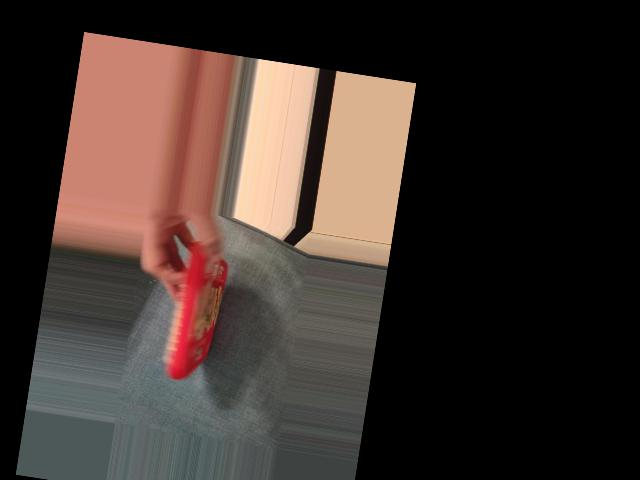cheese: (163, 241, 226, 379)
